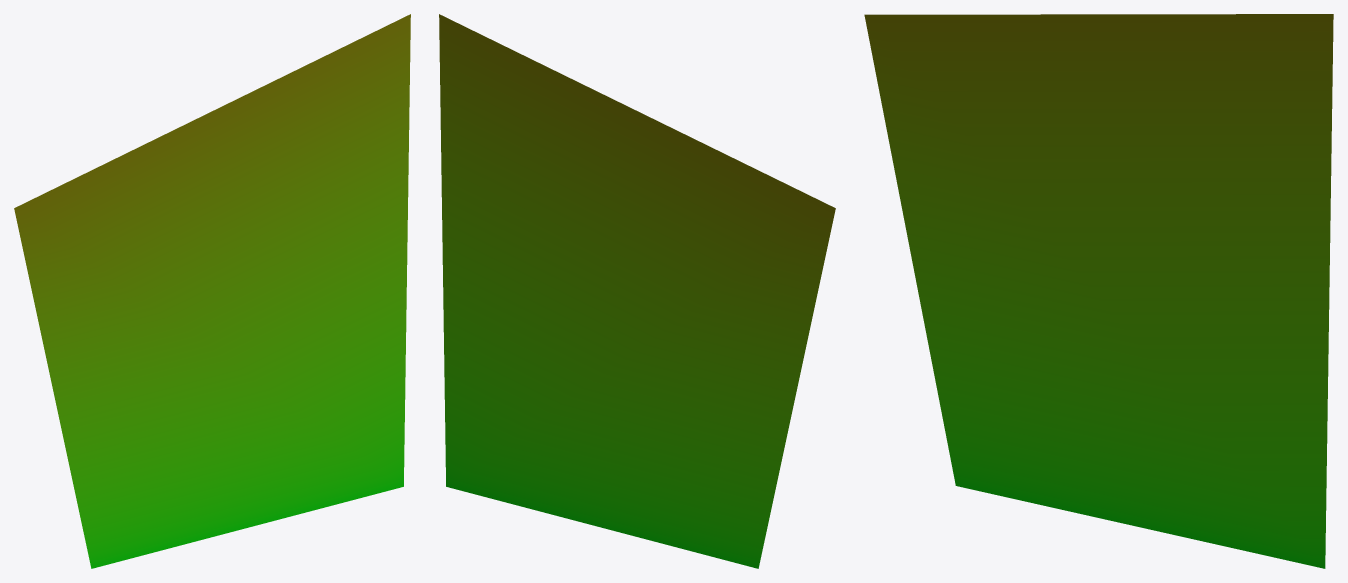
The model's file is Seaweed_LOD3_Var10_sdpjN.fbx.
The picture shows the model from 3 angles, left to right: view 1: azimuth 30°, elevation 25°; view 2: azimuth 150°, elevation 25°; view 3: azimuth 330°, elevation 25°; orthographic projection. The views are drawn at different scales.
Parts seen in each view (by area): view 1: _289e_Var10_LOD3; view 2: _289e_Var10_LOD3; view 3: _289e_Var10_LOD3.
Part boxes in pixels (<box>): _289e_Var10_LOD3: <box>14,14,410,568</box>; _289e_Var10_LOD3: <box>439,14,835,568</box>; _289e_Var10_LOD3: <box>864,14,1333,568</box>.
Size of the model in its own units: 17.73 by 20.36 by 4.05e-06.
